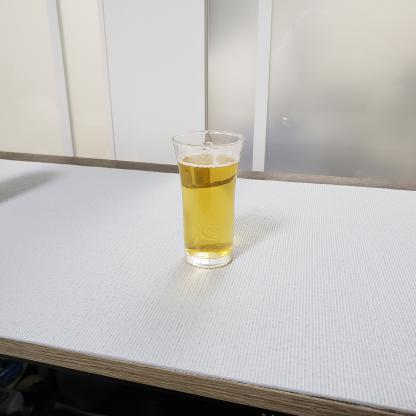glass: (169, 122, 251, 275)
